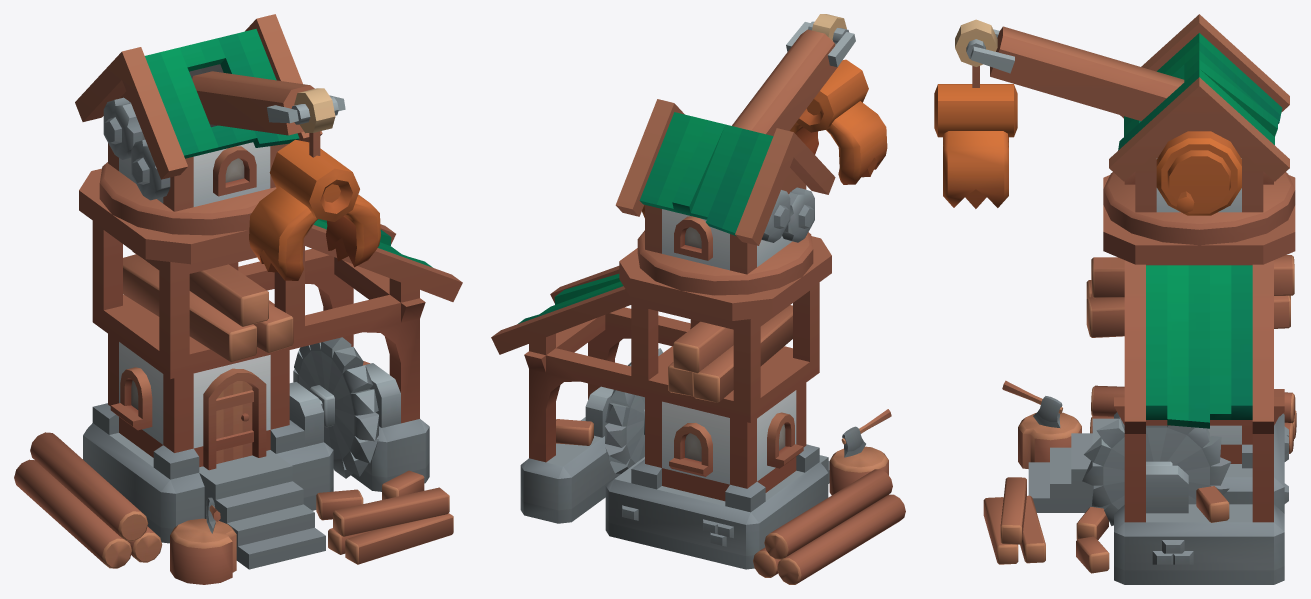
The model's file is kaykit-medieval-hexagon-pack-building-lumbermill-green.glb.
The picture shows the model from 3 angles, left to right: view 1: azimuth 30°, elevation 25°; view 2: azimuth 150°, elevation 25°; view 3: azimuth 270°, elevation 25°; orthographic projection. The views are drawn at different scales.
Visible parts, largest first — view 1: building_lumbermill_green, building_lumbermill_top_green, building_lumbermill_saw_green; view 2: building_lumbermill_green, building_lumbermill_top_green, building_lumbermill_saw_green; view 3: building_lumbermill_green, building_lumbermill_top_green, building_lumbermill_saw_green.
Boxes of the visible parts, x1,y1,x2,y2 form: building_lumbermill_green: (14, 168, 462, 584); building_lumbermill_top_green: (75, 14, 380, 280); building_lumbermill_saw_green: (293, 337, 378, 478); building_lumbermill_green: (491, 236, 905, 584); building_lumbermill_top_green: (615, 14, 887, 295); building_lumbermill_saw_green: (605, 348, 662, 474); building_lumbermill_green: (983, 175, 1296, 584); building_lumbermill_top_green: (934, 14, 1295, 245); building_lumbermill_saw_green: (1082, 417, 1231, 525).
Size of the model in its own units: 1.37 by 1.71 by 1.19.
Materials: 1 (1 with a texture image).
